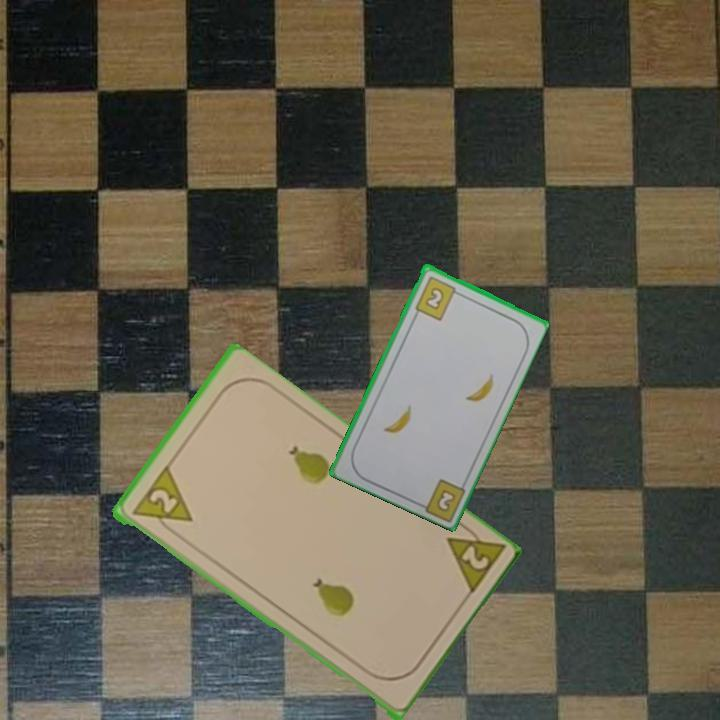2b: (411, 272, 463, 323), (433, 485, 459, 514)
2p: (441, 517, 507, 600), (127, 464, 195, 539)
